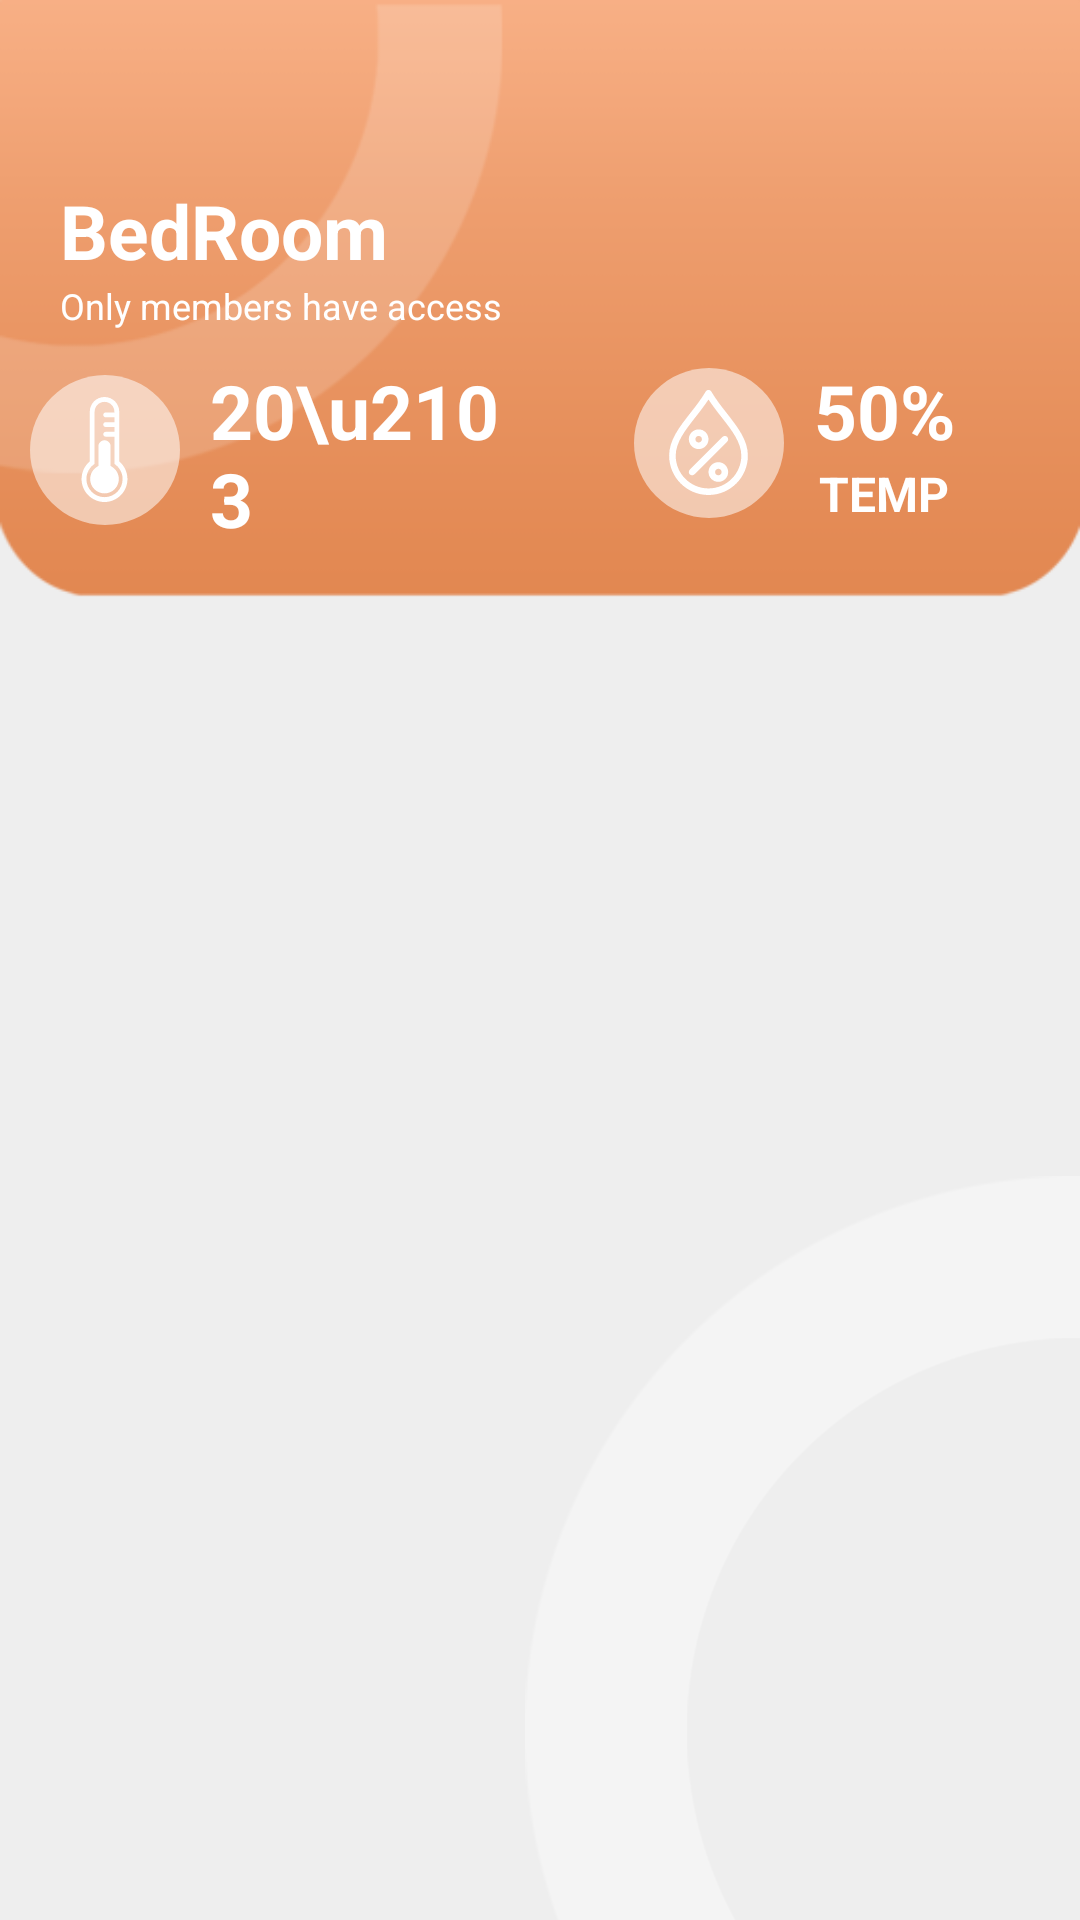

Icon bounding boxes for this 1080 x 1920 phone screenshot, format [x1, y1, x2, y2]:
humidity: [669, 390, 748, 495]
science thermometer: [81, 397, 128, 502]
